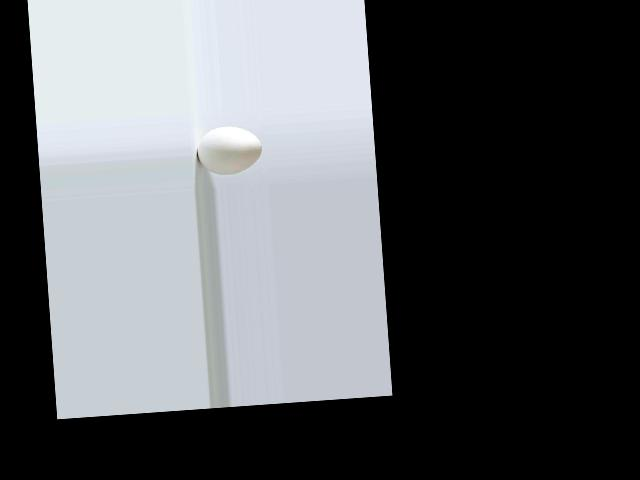egg: (195, 123, 263, 175)
